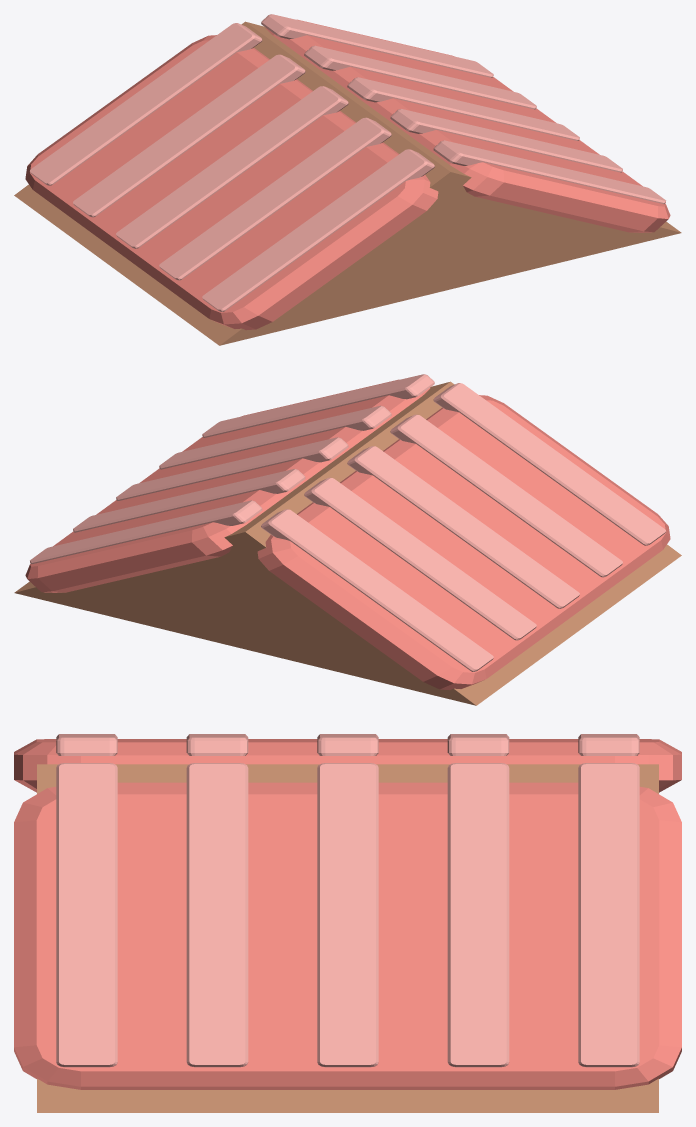
Rendered from house_roof.glb.
The picture shows the model from 3 angles, top to bottom: view 1: azimuth 30°, elevation 25°; view 2: azimuth 150°, elevation 25°; view 3: azimuth 270°, elevation 25°; orthographic projection. The views are drawn at different scales.
Parts seen in each view (by area): view 1: model; view 2: model; view 3: model.
Boxes of the visible parts, x1,y1,x2,y2 form: model: (14,14,681,345); model: (14,374,681,705); model: (14,734,681,1112).
Size of the model in its own units: 2.3 by 0.6 by 1.9.
